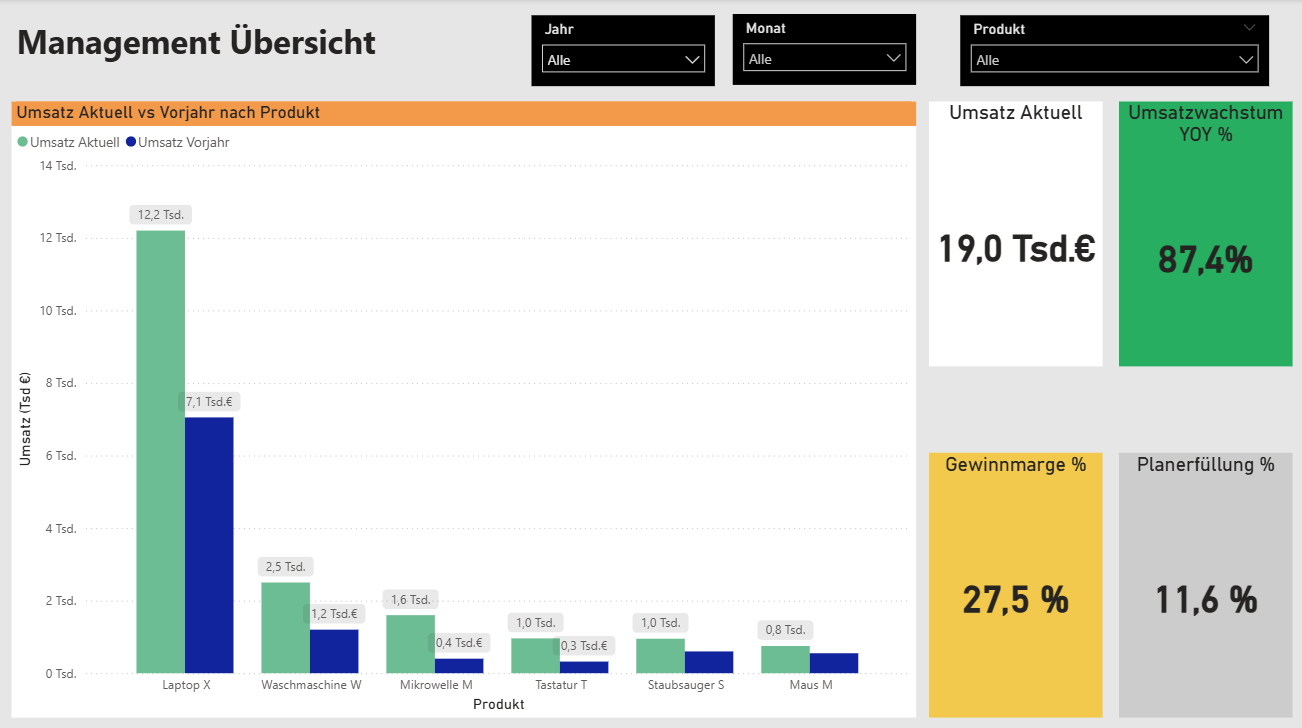

The dashboard page shown, as its layout file describes it:
{"tool":"powerbi","page":{"name":"Management-Übersicht","canvas":[1280,720],"ordinal":0},"visuals":[{"type":"card","title":"Umsatz Aktuell","fields":{"Values":["tbl_Sales.Umsatz Gesamt"]},"box":[912.9,100.6,170.6,260.1],"z":0},{"type":"card","title":"Umsatzwachstum YOY %","fields":{"Values":["tbl_Calendar.Umsatz YOY %"]},"box":[1099.4,100.6,170.6,260.1],"z":1000},{"type":"card","title":"Gewinnmarge %","fields":{"Values":["tbl_Sales.Gewinnmarge %"]},"box":[912.9,445.4,170.6,260.1],"z":2000},{"type":"slicer","title":"Jahr","fields":{"Values":["tbl_Calendar.Jahr"]},"box":[522.7,16,180.4,69.9],"z":3000},{"type":"slicer","title":"Monat","fields":{"Values":["Dim_Monat.Monat"]},"box":[720.2,14.7,180.4,69.9],"z":4000},{"type":"clusteredColumnChart","title":"Umsatz Aktuell vs Vorjahr nach Produkt","fields":{"Y":["tbl_Sales.Umsatz Aktuell","tbl_Calendar.Umsatz Vorjahr"],"Category":["Dim_Produkt.Produkt"]},"box":[12.3,100.6,888.3,604.9],"z":7000},{"type":"card","title":"Planerfüllung %","fields":{"Values":["_Measures.Planerfüllung %"]},"box":[1099.4,445.4,170.6,260.1],"z":8000},{"type":"textbox","box":[12.3,14.7,381.6,52.8],"z":9000},{"type":"slicer","fields":{"Values":["tbl_Sales.Produkt"]},"box":[943.6,16,303.1,69.9],"z":11000}]}

Visuals, with their boxes in screenshot pixels (x1, y1, x2, y2), scaled from the page's 1280x720 canvas onto the 1302x728 screenshot:
"Umsatz Aktuell" card: box=[929, 102, 1102, 365]
"Umsatzwachstum YOY %" card: box=[1118, 102, 1292, 365]
"Gewinnmarge %" card: box=[929, 450, 1102, 713]
"Jahr" slicer: box=[532, 16, 715, 87]
"Monat" slicer: box=[733, 15, 916, 86]
"Umsatz Aktuell vs Vorjahr nach Produkt" clusteredColumnChart: box=[13, 102, 916, 713]
"Planerfüllung %" card: box=[1118, 450, 1292, 713]
textbox: box=[13, 15, 401, 68]
slicer - tbl_Sales.Produkt: box=[960, 16, 1268, 87]
